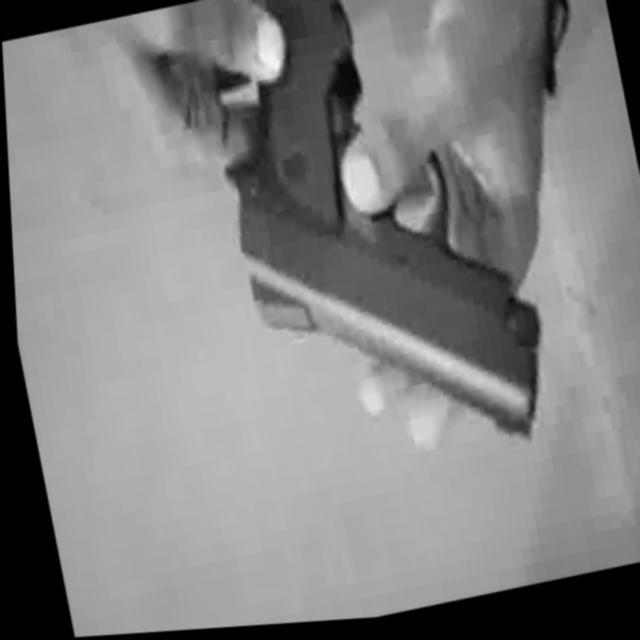weapon: (188, 0, 555, 493)
